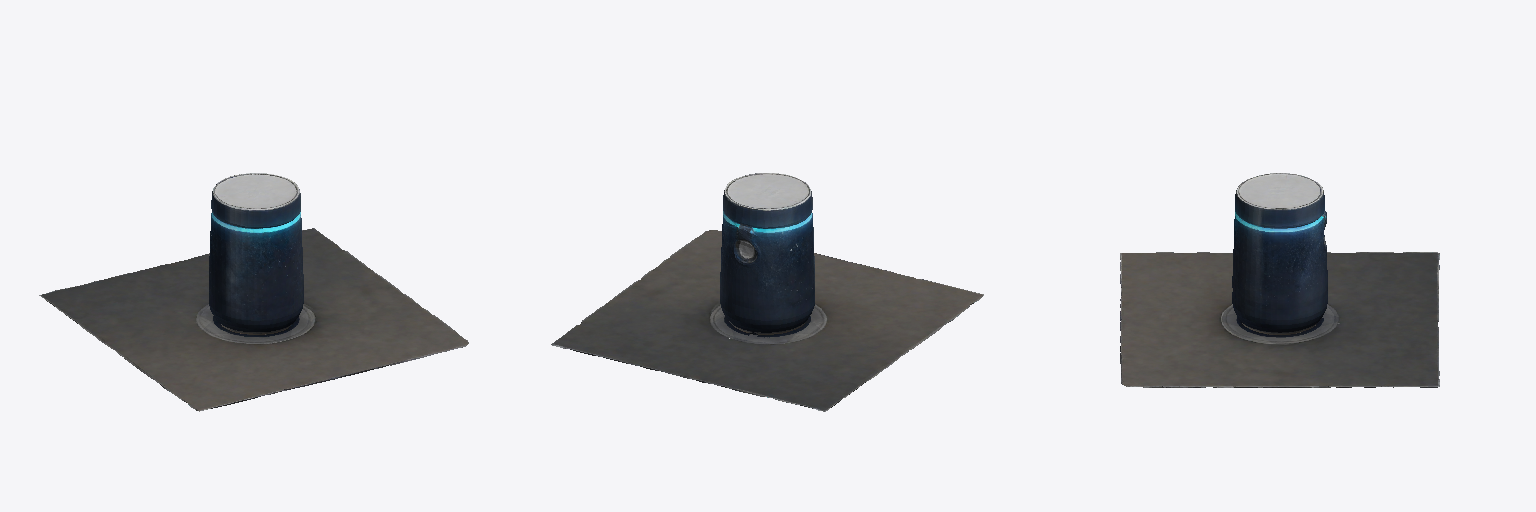
3 views of the same model, side by side, from view 1: azimuth 30°, elevation 25°; view 2: azimuth 150°, elevation 25°; view 3: azimuth 270°, elevation 25° (orthographic).
Parts seen in each view (by area): view 1: Smart_Speaker_in_a_Fu_[number redacted]_texture; view 2: Smart_Speaker_in_a_Fu_[number redacted]_texture; view 3: Smart_Speaker_in_a_Fu_[number redacted]_texture.
Part boxes in pixels (x1,y1,x2,y2): Smart_Speaker_in_a_Fu_[number redacted]_texture: (39,173,468,411); Smart_Speaker_in_a_Fu_[number redacted]_texture: (551,173,983,411); Smart_Speaker_in_a_Fu_[number redacted]_texture: (1120,173,1439,387).
Bounding box in the file's own units: 2.01 × 0.9019 × 2.01.
1 materials, 1 textured.